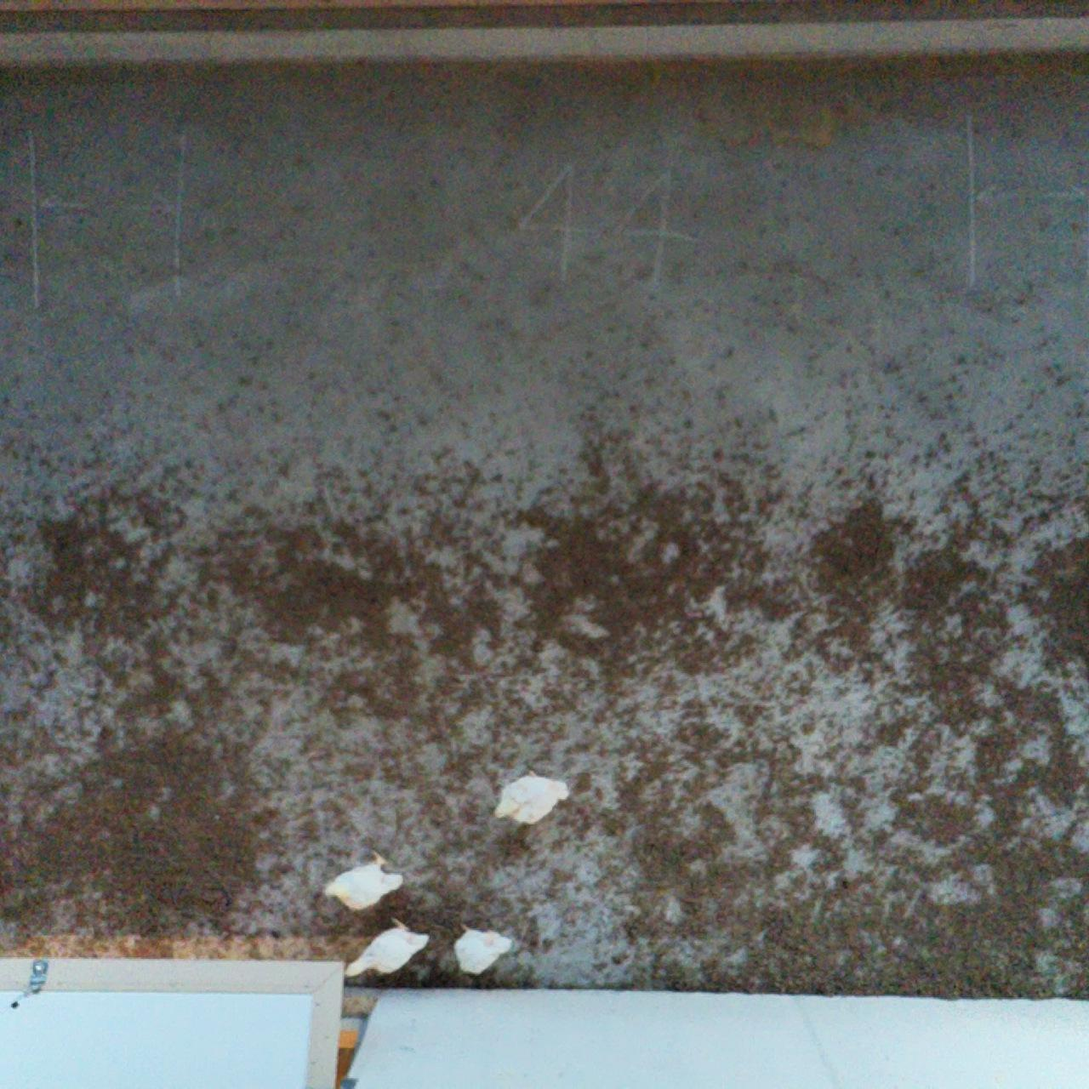chicken: (344, 909, 429, 985), (320, 846, 409, 915), (490, 765, 575, 828), (454, 919, 517, 978)
